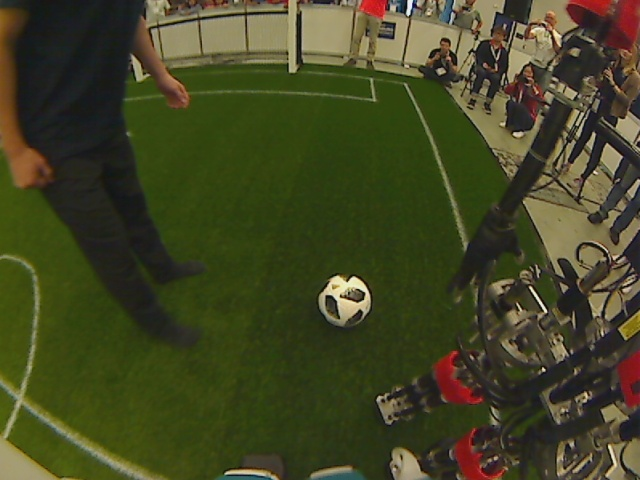ball: (316, 271, 372, 328)
